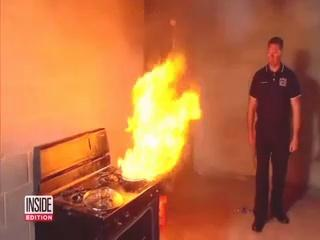Fire: (116, 21, 222, 184)
